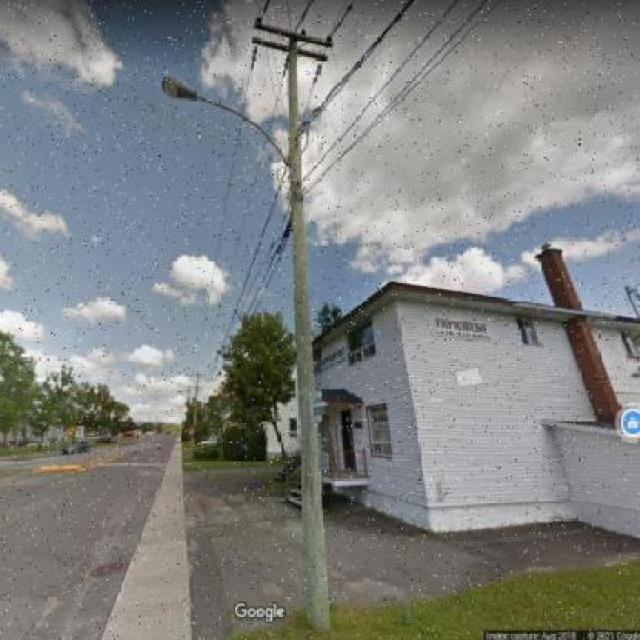pole: (162, 5, 404, 633)
